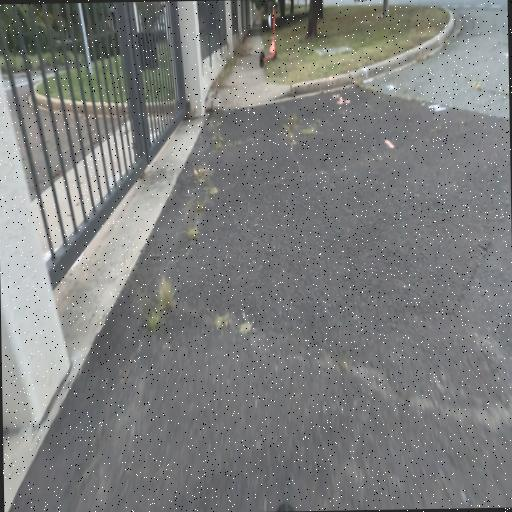kerb_cut: (215, 83, 290, 114)
